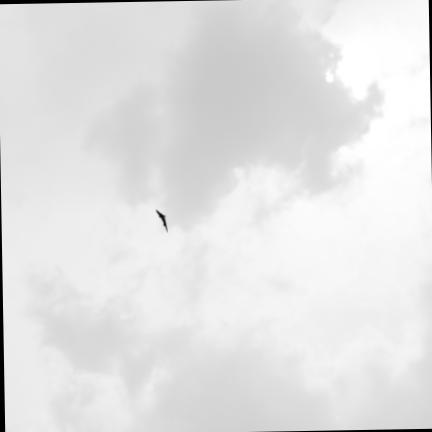Shahed: (155, 210, 166, 231)
